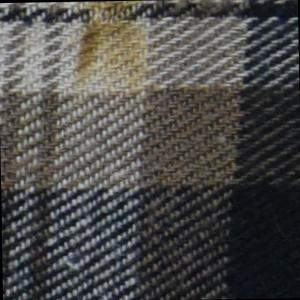Oil Stain: (69, 1, 150, 96)
